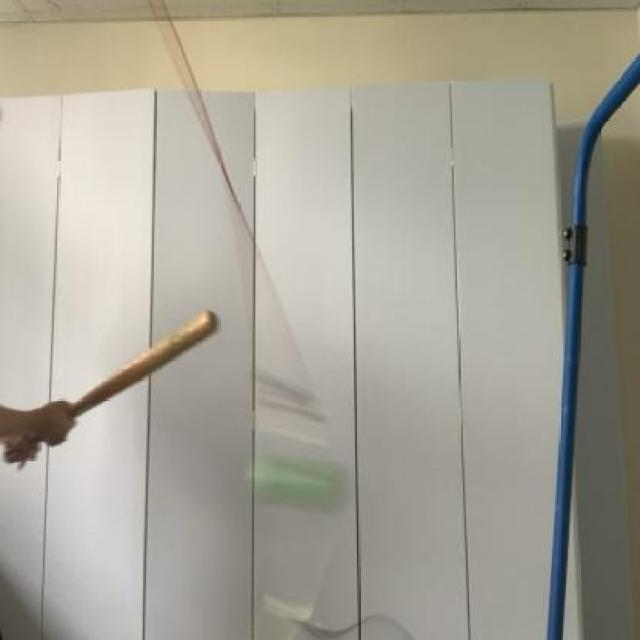baseball: (235, 437, 352, 521)
